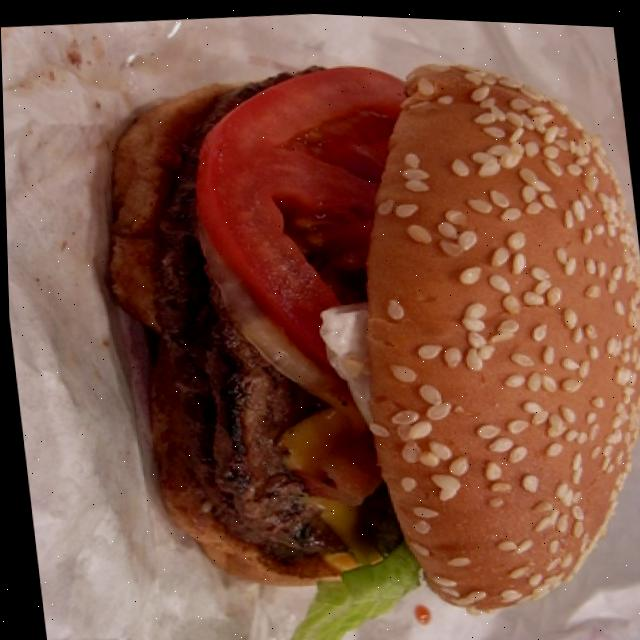汉堡快餐: (61, 19, 640, 640)
